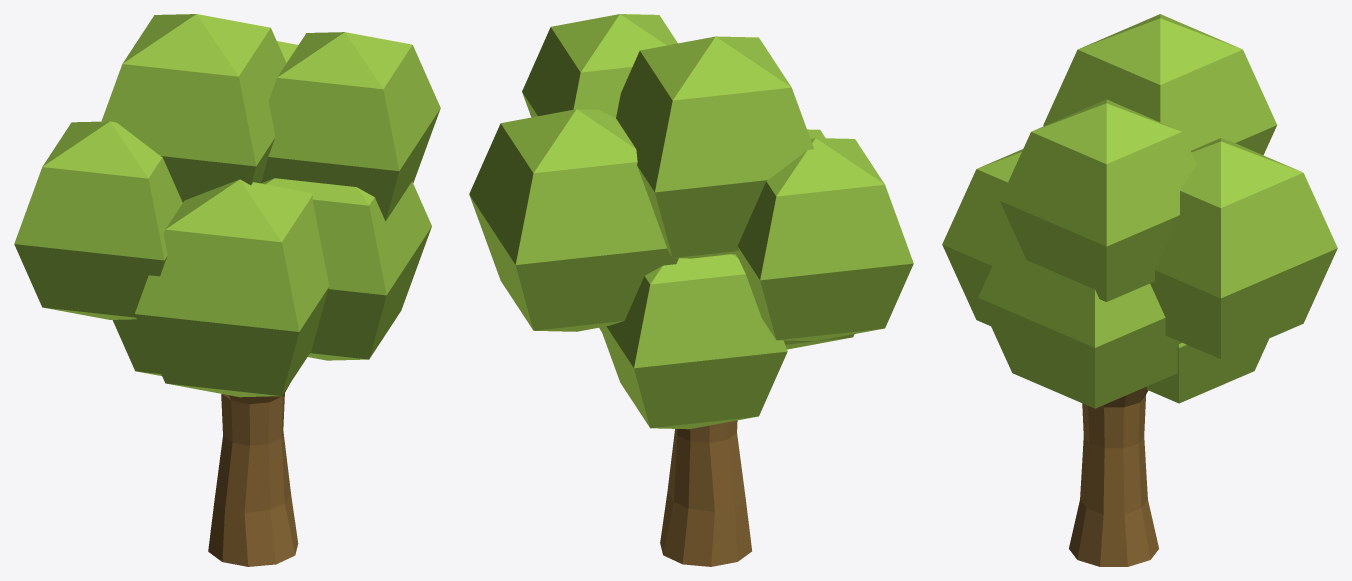
File: Chêne.fbx
3 renders of one model, left to right at view 1: azimuth 30°, elevation 25°; view 2: azimuth 150°, elevation 25°; view 3: azimuth 270°, elevation 25°, orthographic. The views are drawn at different scales.
Visible parts, largest first — view 1: Chêne; view 2: Chêne; view 3: Chêne.
Boxes of the visible parts, x1,y1,x2,y2 form: Chêne: (14, 14, 440, 566); Chêne: (469, 14, 913, 566); Chêne: (942, 14, 1337, 566).
Bounding box in the file's own units: 3933 × 4869 × 3393.
